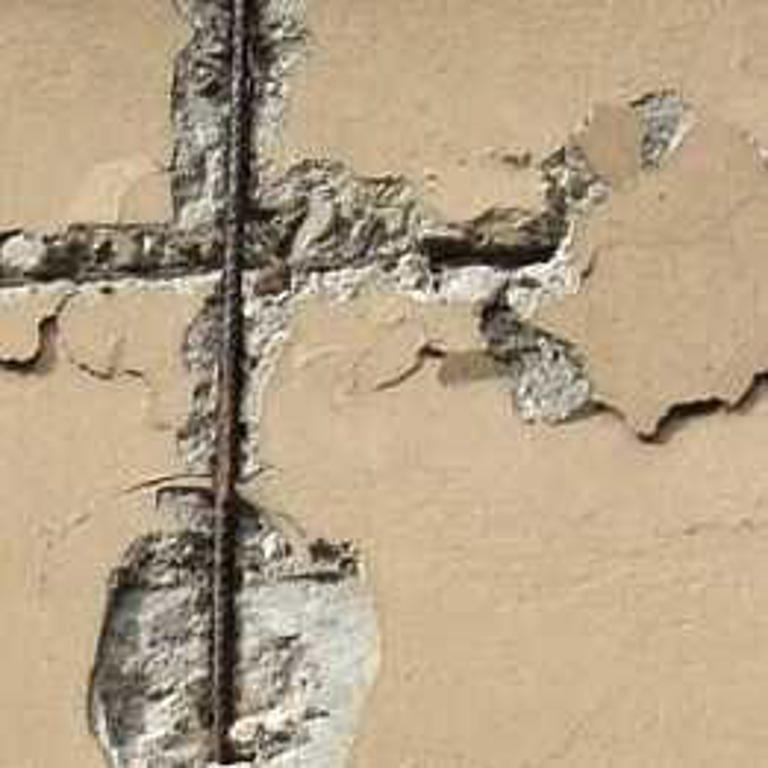exposed_rebar: (213, 0, 255, 762), (422, 234, 556, 268)
spalling: (0, 0, 606, 767), (632, 92, 693, 171)
